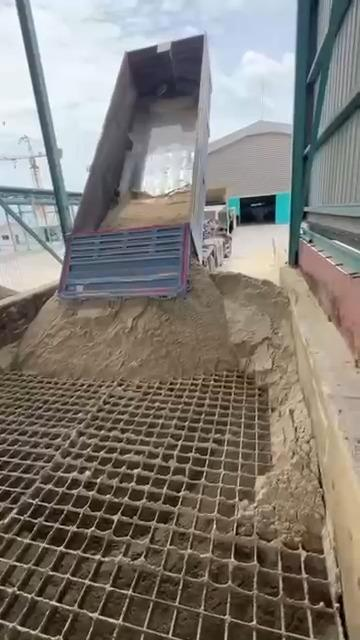sand: (17, 265, 323, 548), (214, 274, 323, 549), (17, 265, 236, 379), (101, 190, 190, 229), (0, 285, 15, 299), (251, 507, 253, 508)
